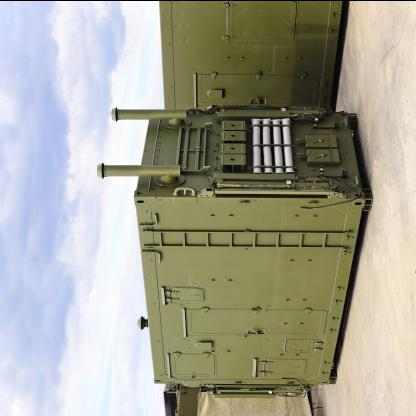Damage: (233, 32, 271, 51), (254, 334, 280, 358)
